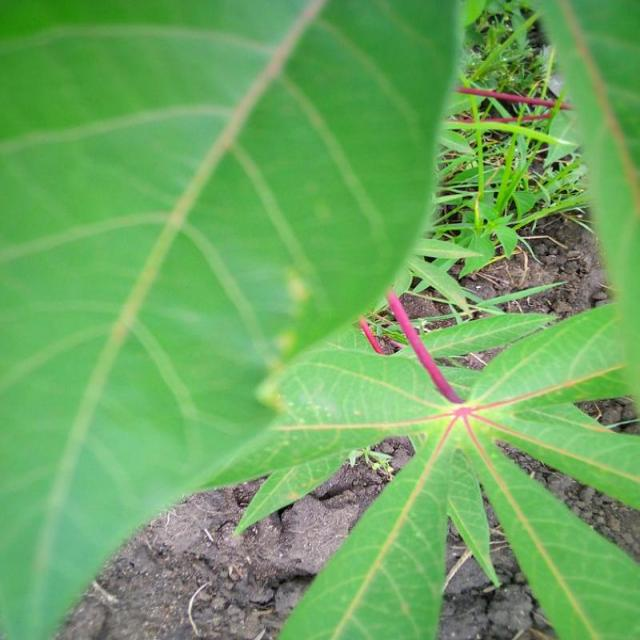cassava leaf: (0, 0, 466, 637), (236, 293, 638, 638)
